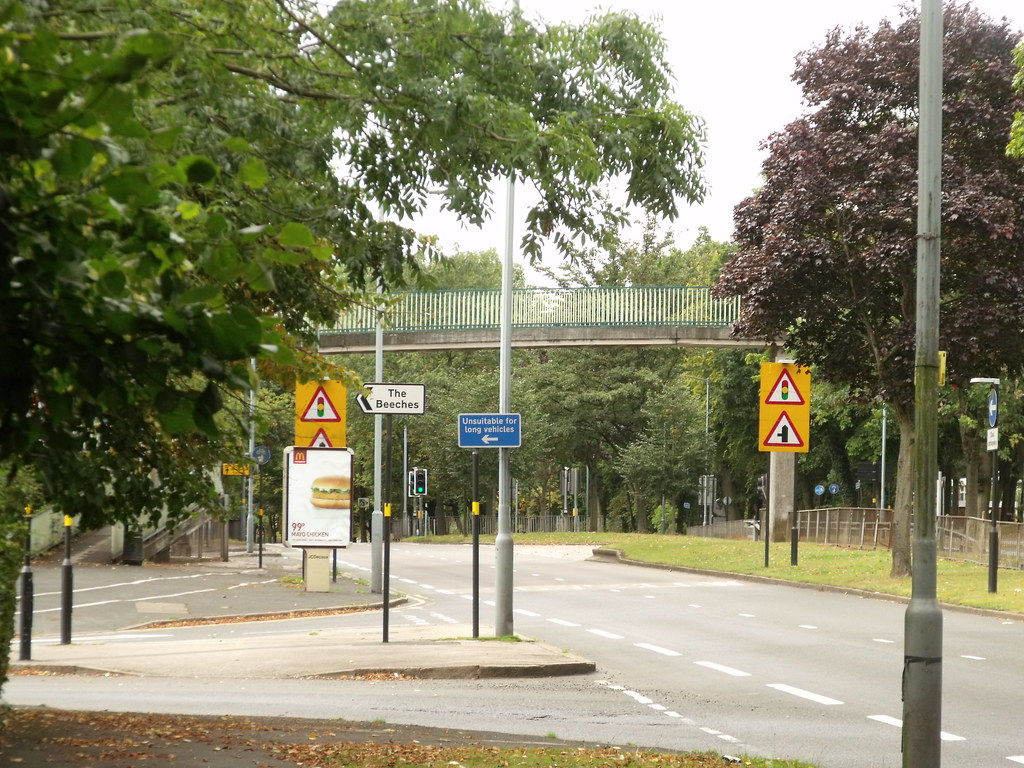bridge: (312, 293, 784, 357)
